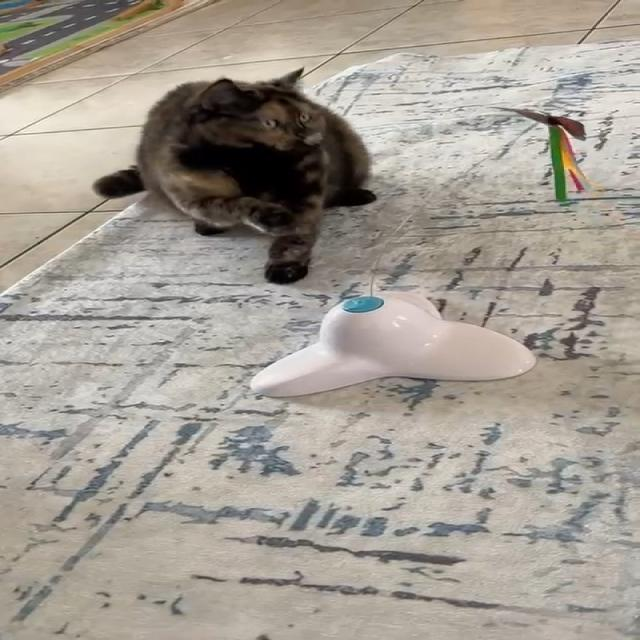authorized: (92, 65, 377, 284)
